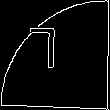L_S: (39, 29, 71, 81)
